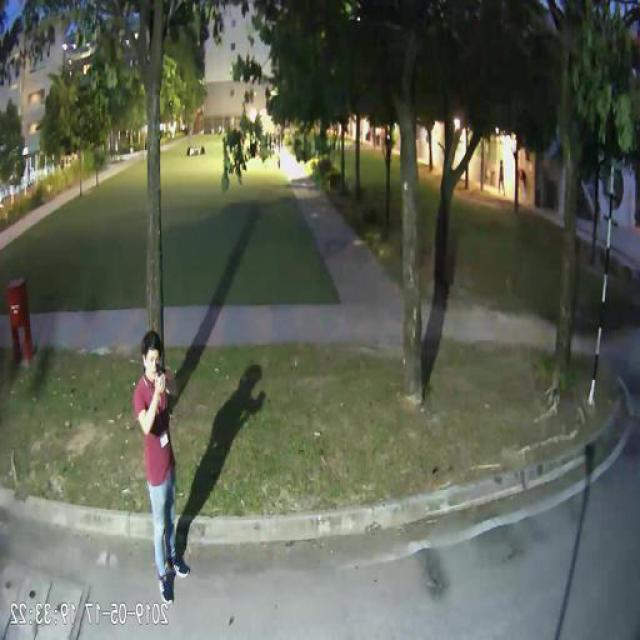Gun: (156, 361, 165, 389)
